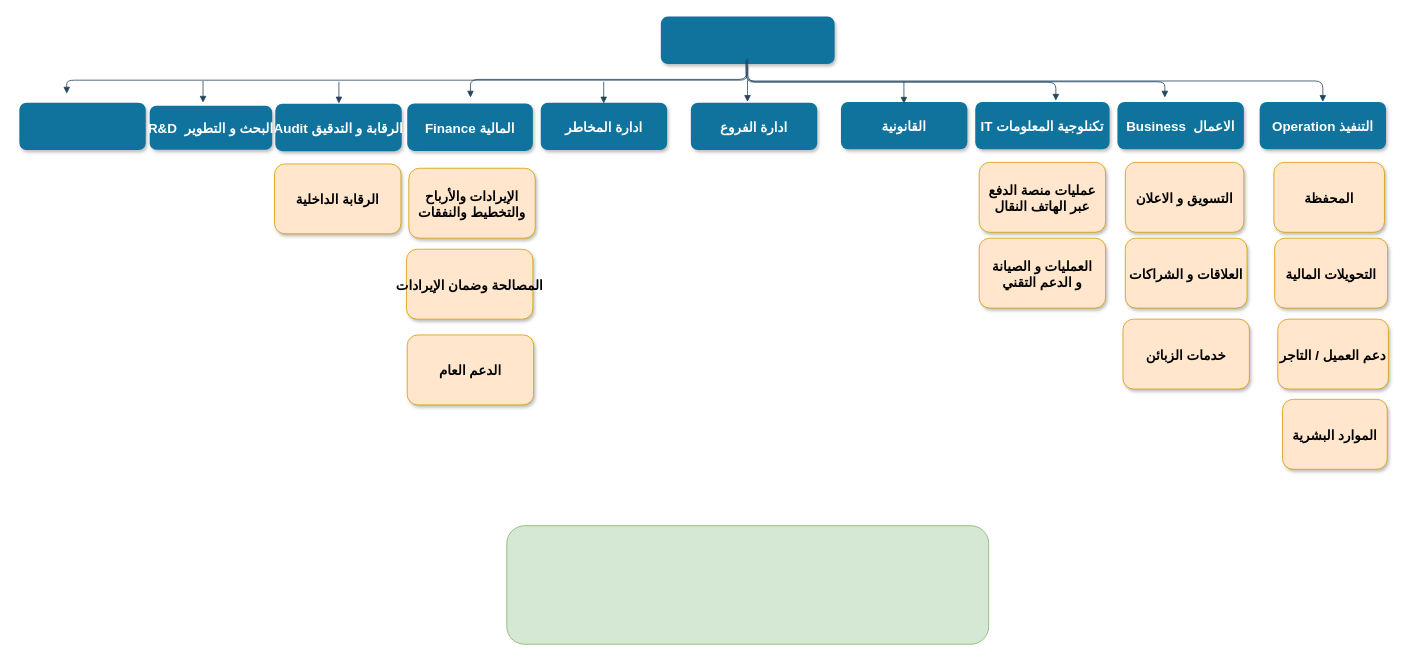
This 1408x658 diagram has some shape labels left out. Here are the shapes that lost their labels. From the top down, the centre of each, then its label:
At [748,41]: "CEO".
At [83,127]: "HR ادارة الموارد البشرية".
At [747,584]: "هيكلية شركة الدفع الالكترونية المقترحة".
